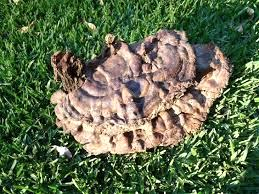Ganoderma - Fruit Body: (53, 27, 233, 155)
